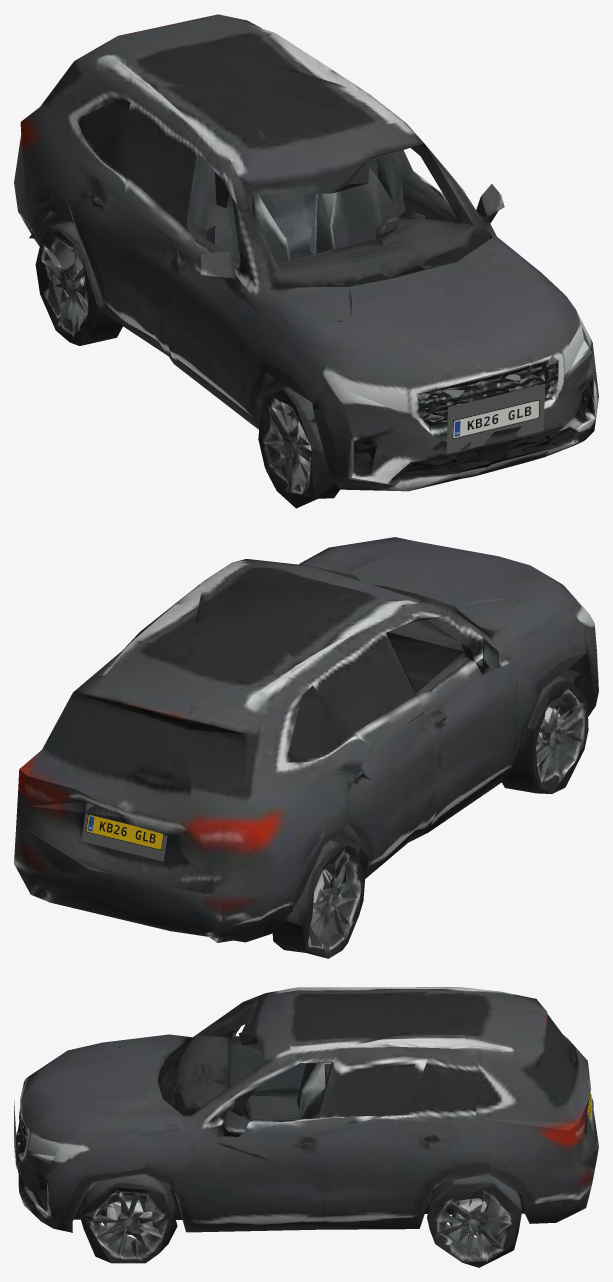
The model's file is car-suv-lod.glb.
3 renders of one model, top to bottom at view 1: azimuth 30°, elevation 25°; view 2: azimuth 150°, elevation 25°; view 3: azimuth 270°, elevation 25°, orthographic. The views are drawn at different scales.
Parts seen in each view (by area): view 1: body, wheel_RR_mesh, wheel_FR_mesh; view 2: body, wheel_RR_mesh, wheel_FR_mesh; view 3: body, wheel_RL_mesh, wheel_FL_mesh.
Part boxes in pixels (box(x1,y1,x2,y2)): body: box(14, 14, 598, 498); wheel_RR_mesh: box(41, 224, 122, 345); wheel_FR_mesh: box(265, 418, 339, 508); body: box(14, 537, 598, 958); wheel_RR_mesh: box(272, 840, 365, 958); wheel_FR_mesh: box(502, 719, 583, 793); body: box(14, 987, 598, 1263); wheel_RL_mesh: box(425, 1183, 524, 1267); wheel_FL_mesh: box(74, 1181, 151, 1262).
Size of the model in its own units: 2.33 by 1.93 by 4.96.
Materials: 3 (2 with a texture image).
